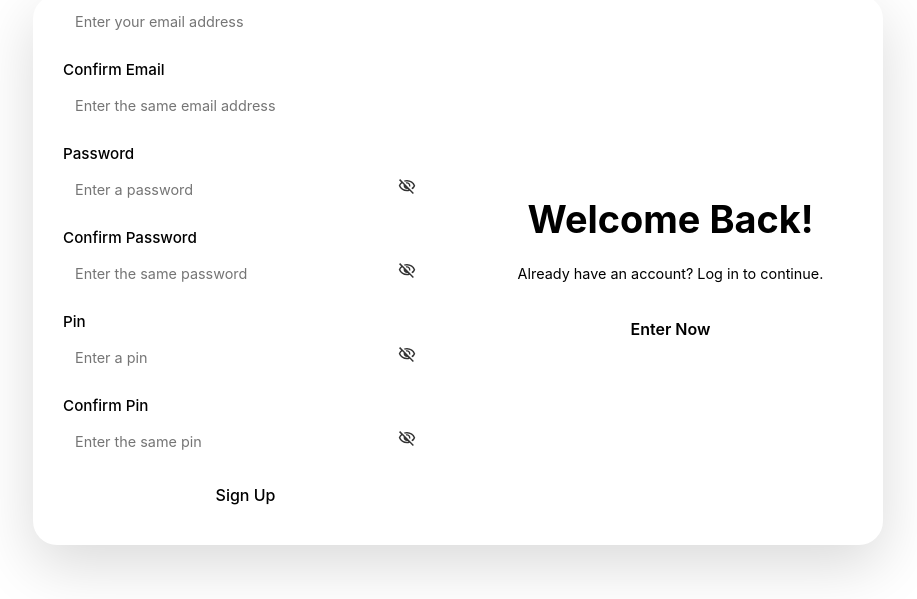
Test: AccessComponent › Register › should show error messages on invalid form registrations
(page scrolled)
Click the button "Sign Up": (245, 495) [194,475,297,515]
(page scrolled)
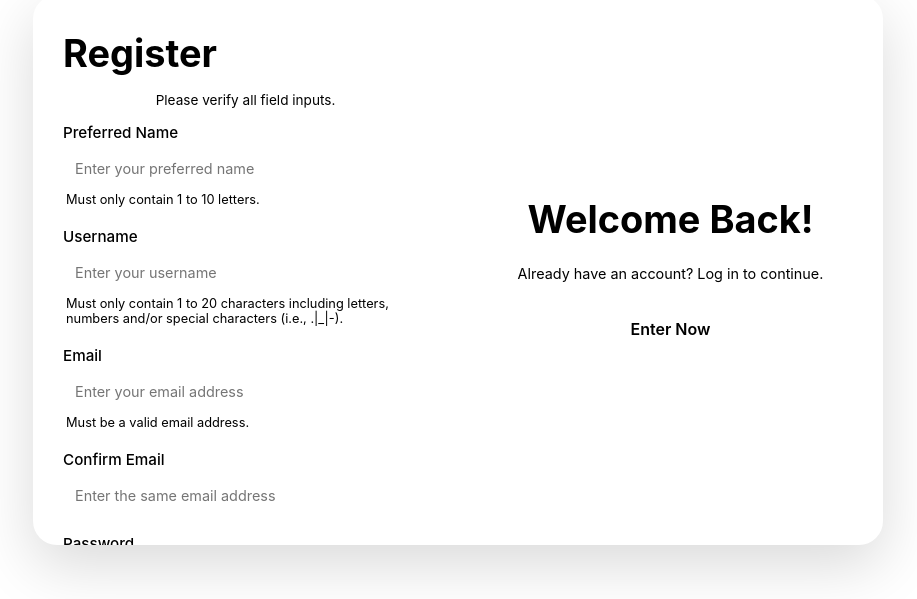
Expected: the text "Please verify all field inputs." is shown, [156,92,335,108]
Expected: the text with class "general" reads "Please verify all field inputs.", [156,92,335,108]
